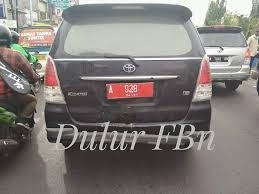plate: (106, 82, 156, 98), (209, 55, 228, 62)
